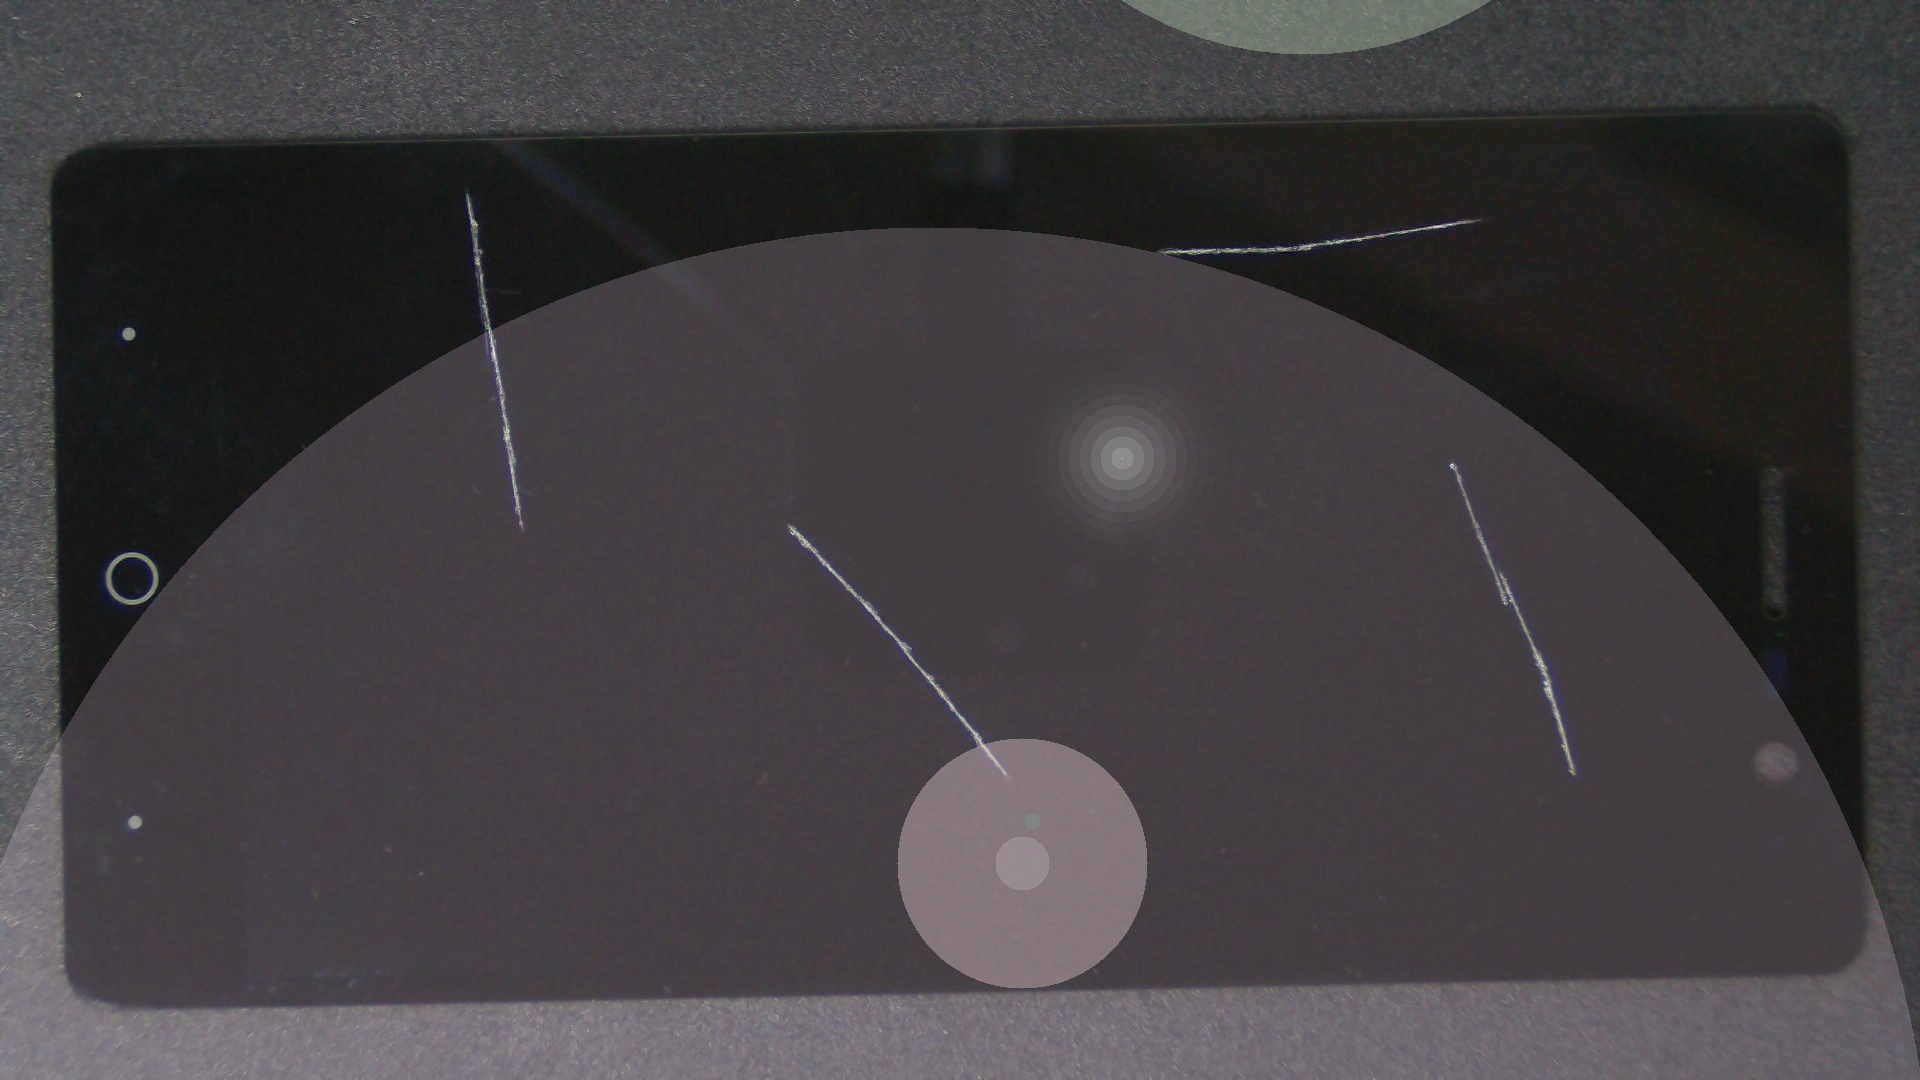oil: (727, 231, 1920, 694), (393, 261, 1180, 785), (733, 108, 1920, 327), (233, 95, 700, 287)
